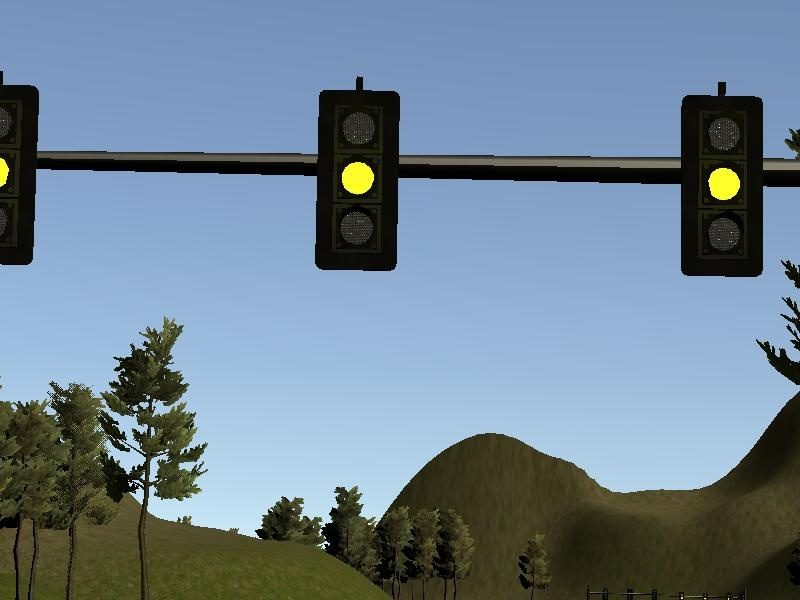YELLOW: (312, 86, 402, 273), (675, 92, 765, 279)
